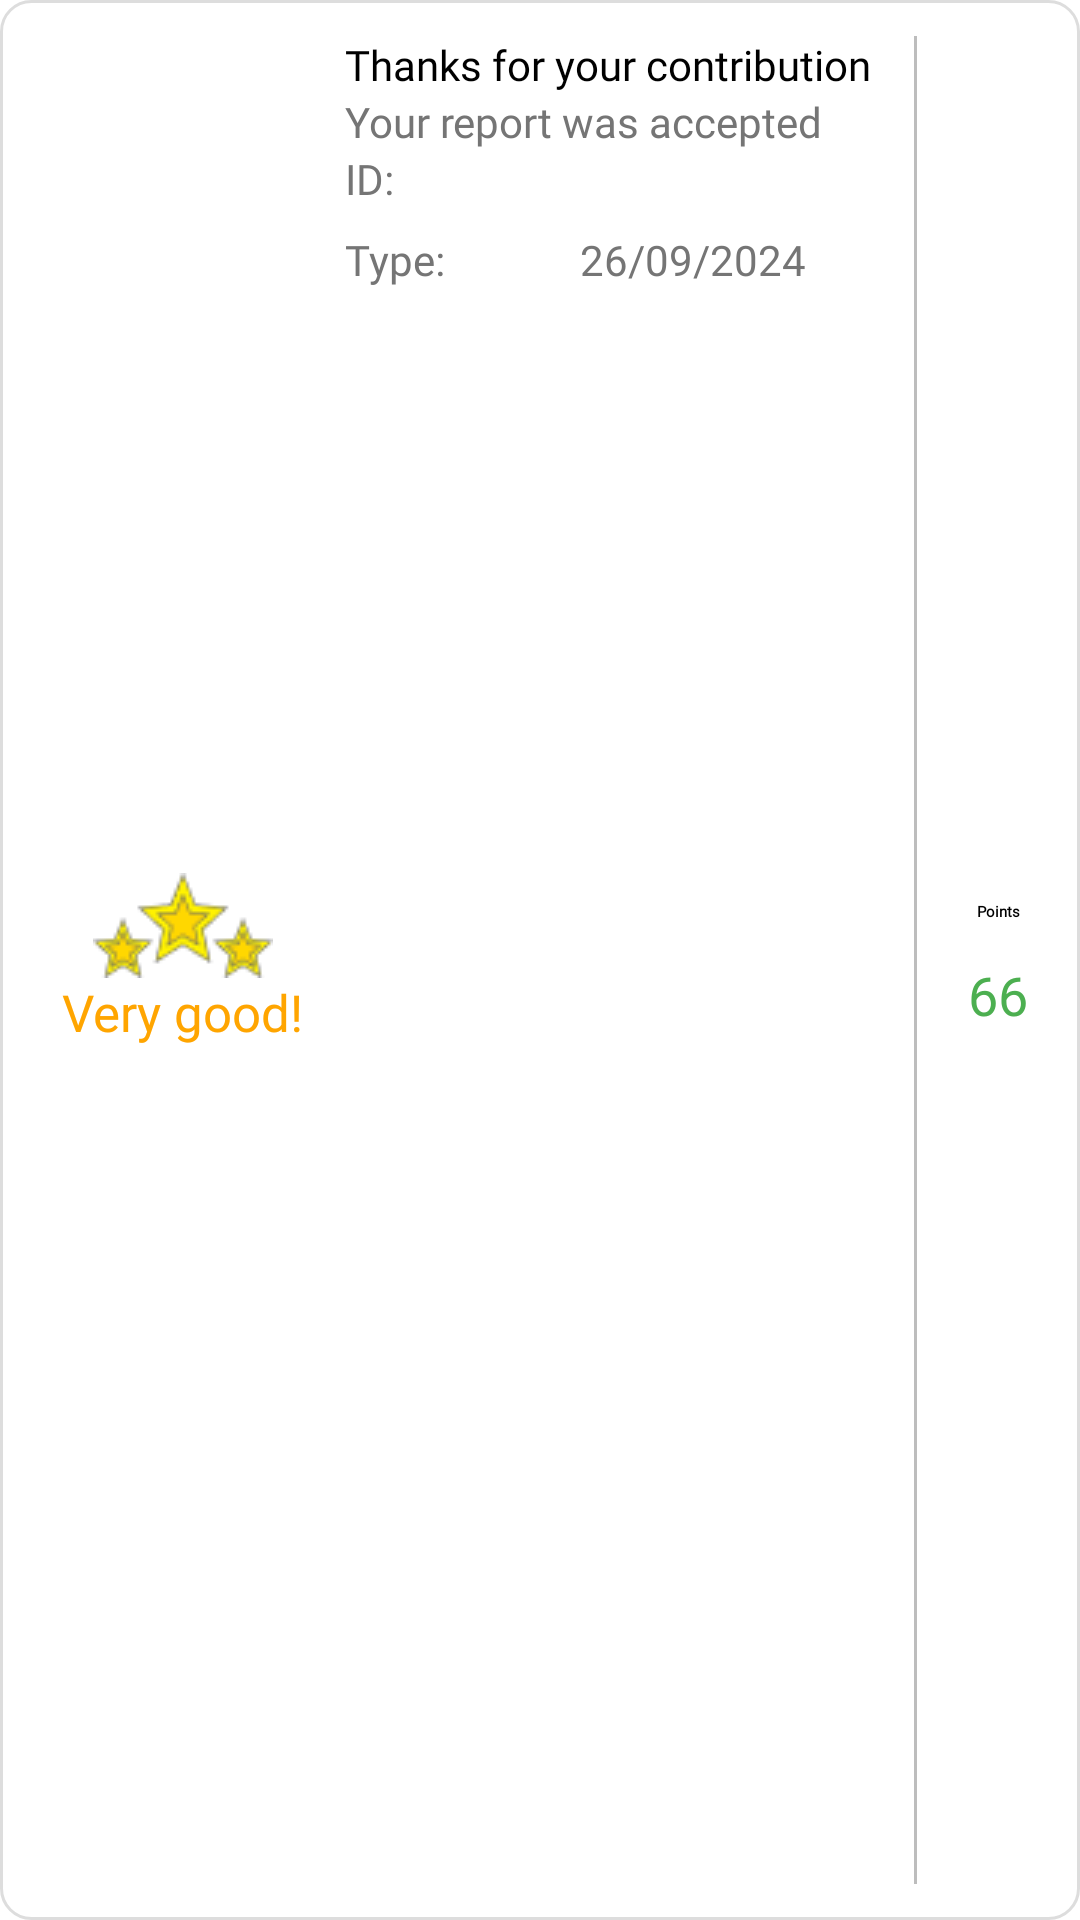

Point at icon controls on the screen. Image size 1080 × 1920, points as point (x, y).
three stars: point (183, 925)
